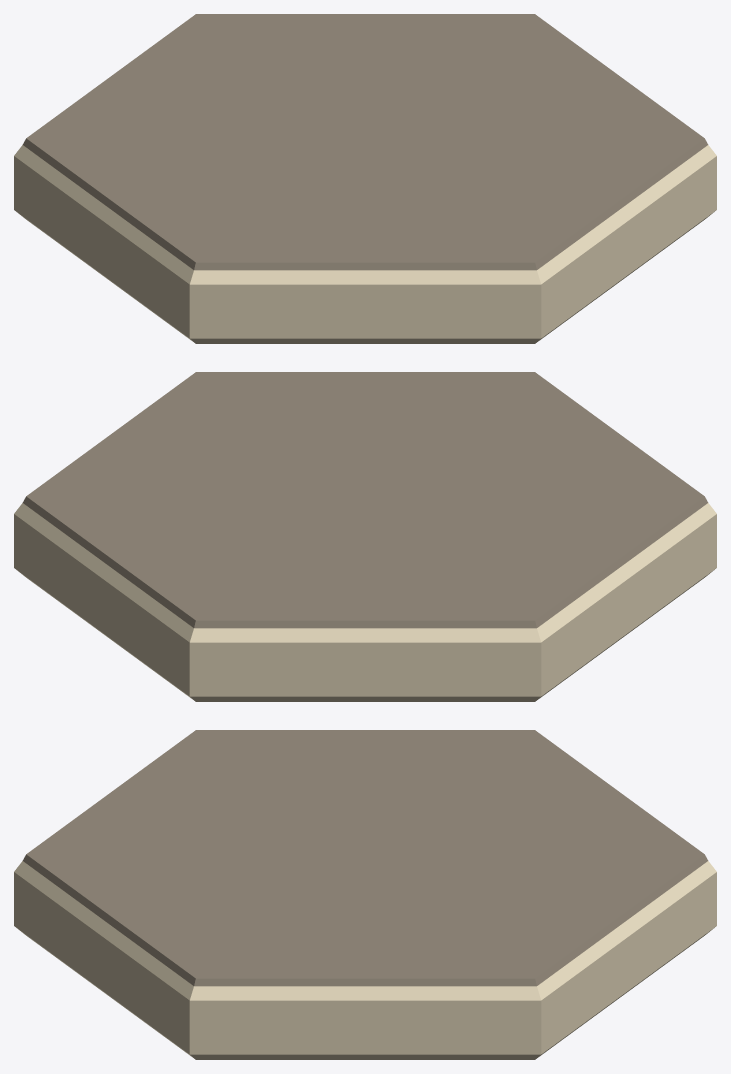
File: foundation-mountain.glb
3 renders of one model, top to bottom at view 1: azimuth 30°, elevation 25°; view 2: azimuth 150°, elevation 25°; view 3: azimuth 270°, elevation 25°, orthographic.
Visible parts, largest first — view 1: foundation-mountain.003, foundation-mountain.001, foundation-mountain.002, foundation-mountain; view 2: foundation-mountain.003, foundation-mountain.001, foundation-mountain.002, foundation-mountain; view 3: foundation-mountain.003, foundation-mountain.001, foundation-mountain.002, foundation-mountain.
Boxes of the visible parts, bbox=[...] form: foundation-mountain.003: bbox=[22, 14, 708, 270]; foundation-mountain.001: bbox=[14, 156, 716, 338]; foundation-mountain.002: bbox=[14, 145, 716, 284]; foundation-mountain: bbox=[16, 211, 714, 343]; foundation-mountain.003: bbox=[22, 372, 708, 628]; foundation-mountain.001: bbox=[14, 514, 716, 696]; foundation-mountain.002: bbox=[14, 503, 716, 642]; foundation-mountain: bbox=[16, 569, 714, 701]; foundation-mountain.003: bbox=[22, 730, 708, 986]; foundation-mountain.001: bbox=[14, 872, 716, 1054]; foundation-mountain.002: bbox=[14, 861, 716, 1000]; foundation-mountain: bbox=[16, 927, 714, 1059].
Size of the model in its own units: 1.7 by 0.25 by 1.96.
